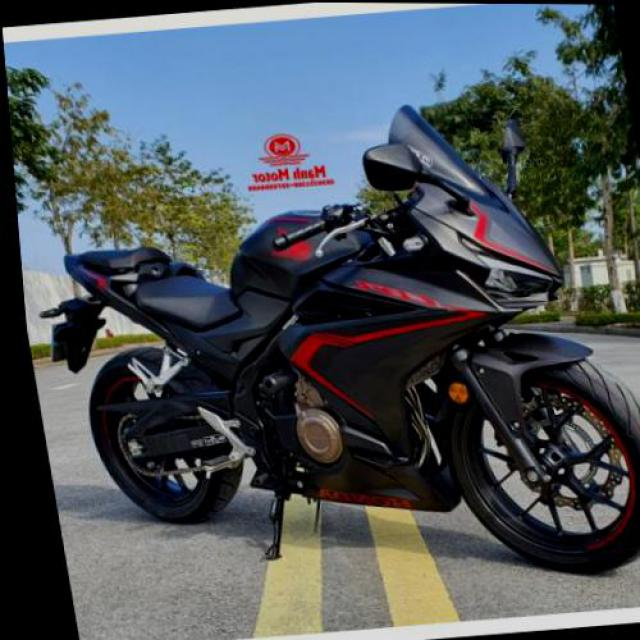CBR500R: (5, 80, 639, 620)
